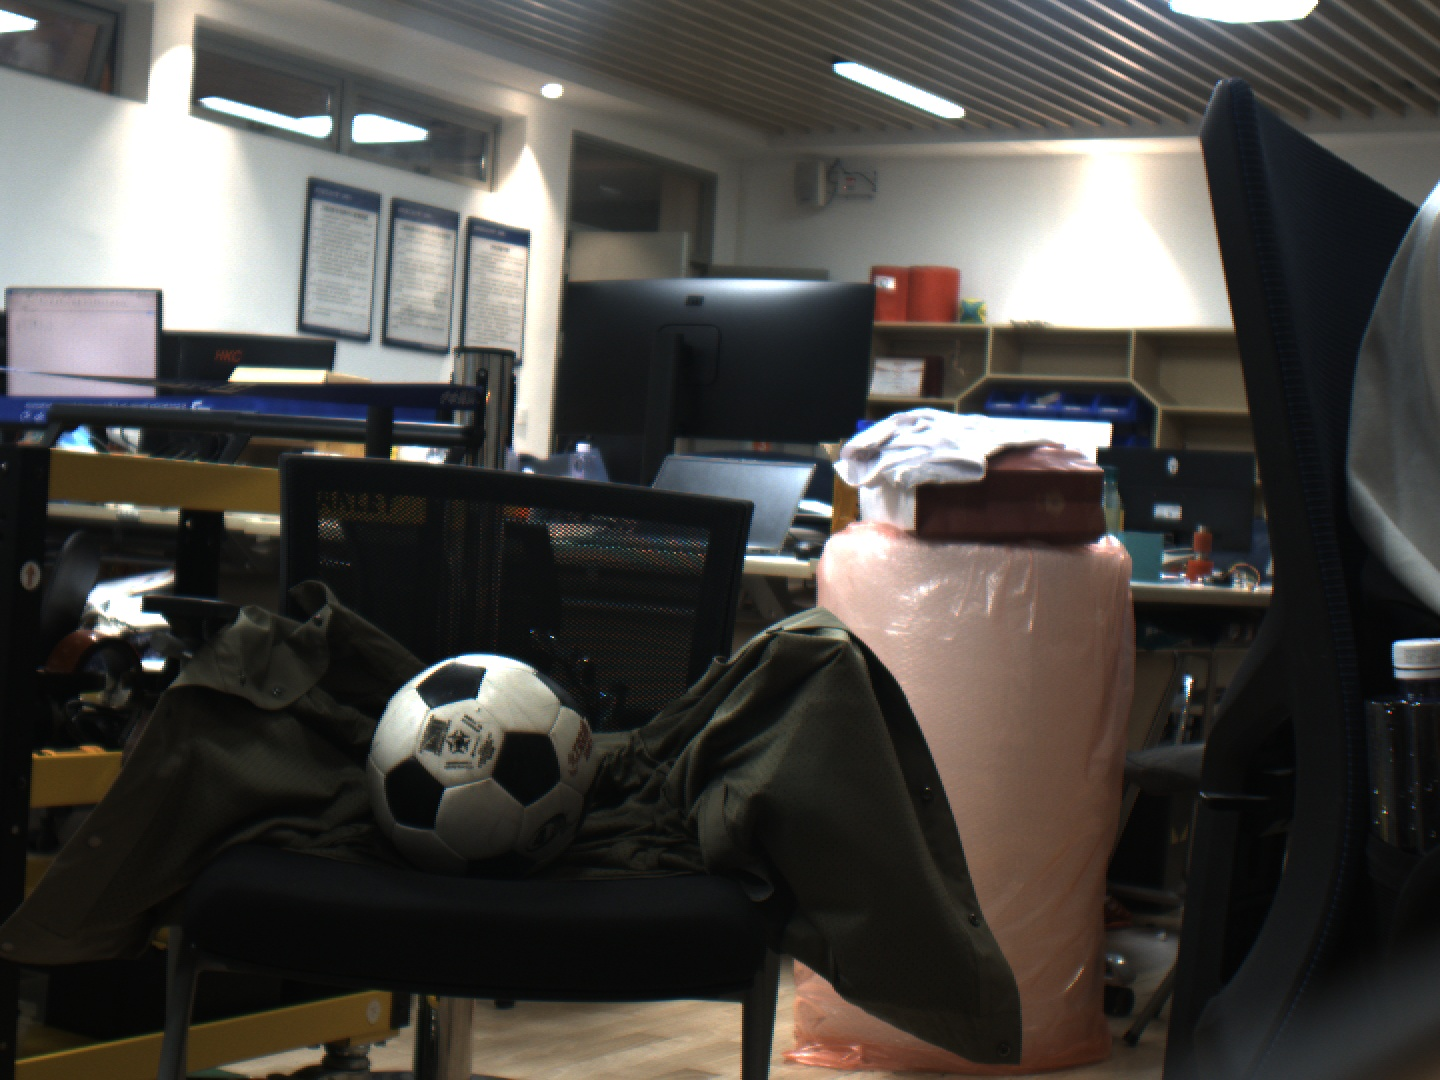ball: (350, 640, 632, 874)
